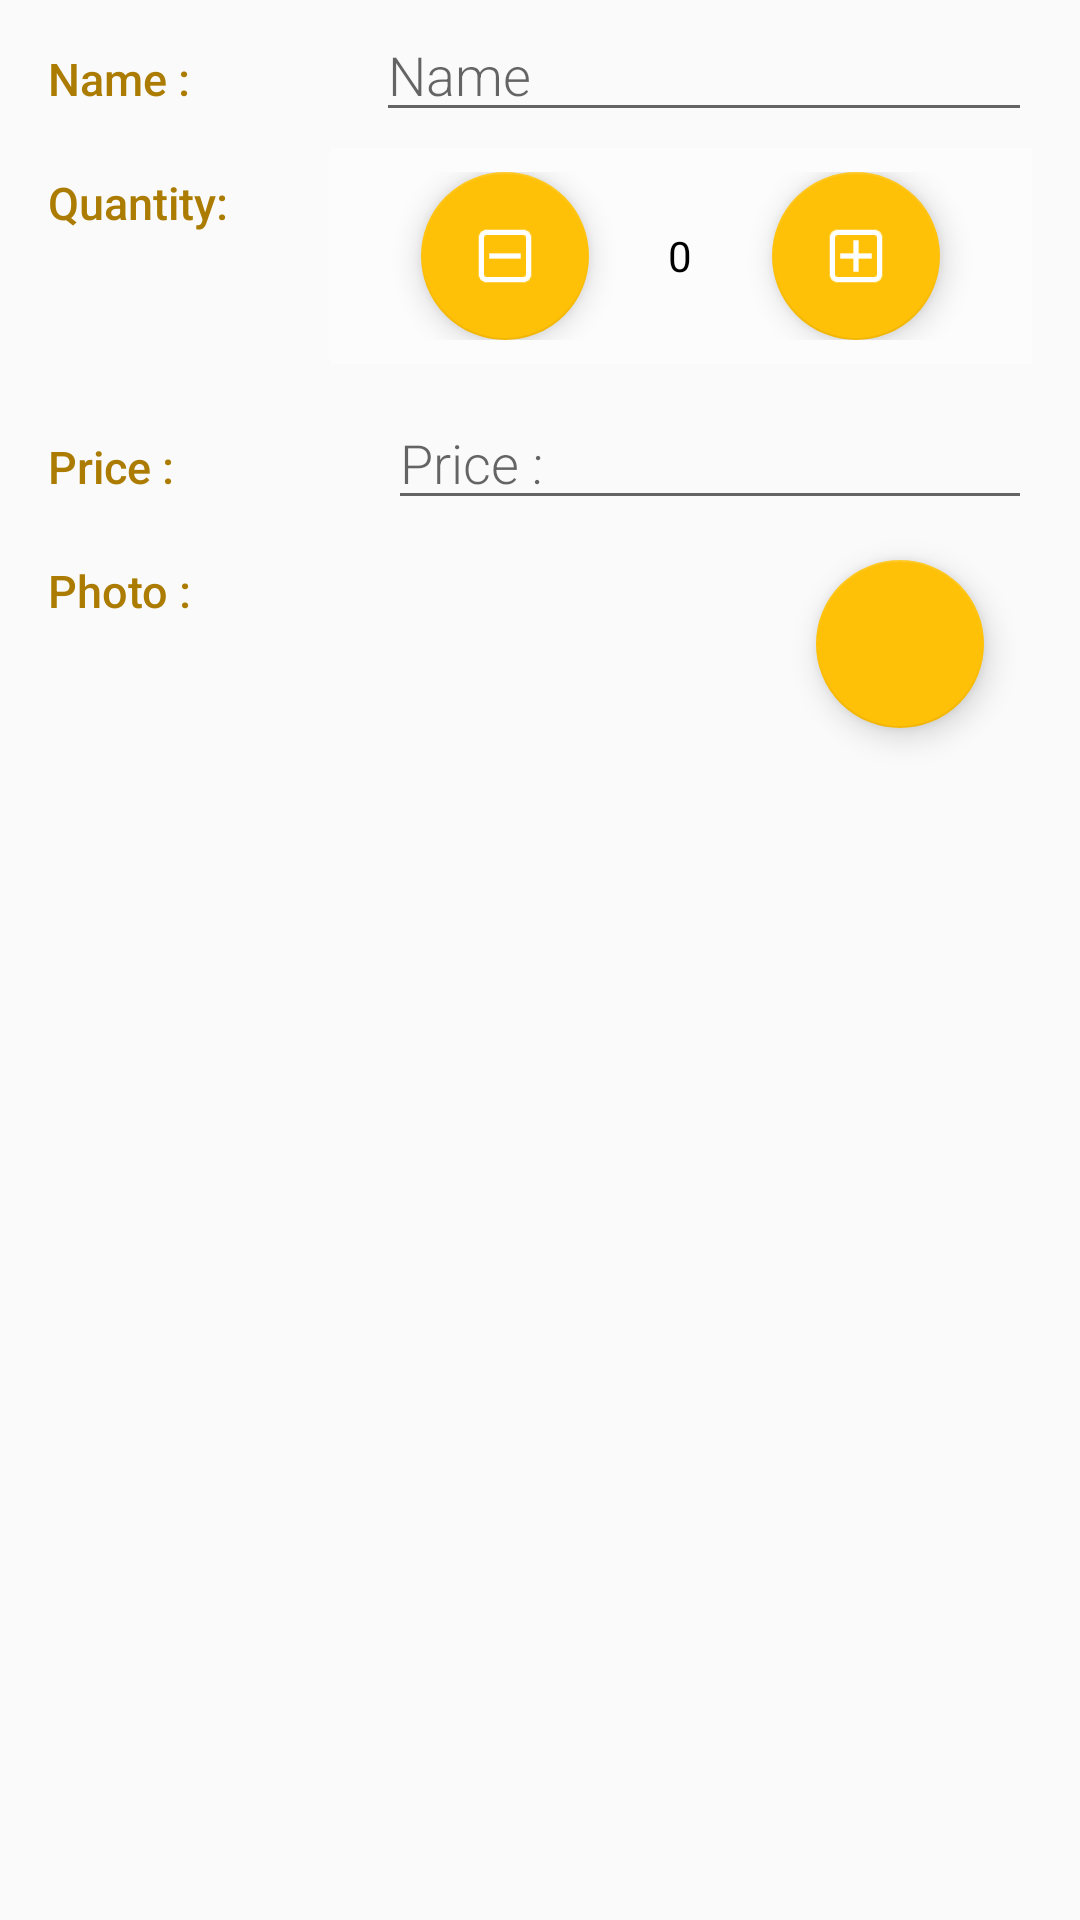

Screen size 1080 × 1920. Icon name, then its box in pixels as (x1,y1,x2,y2):
add: (772,172,940,340)
reduce: (421,172,589,340)
